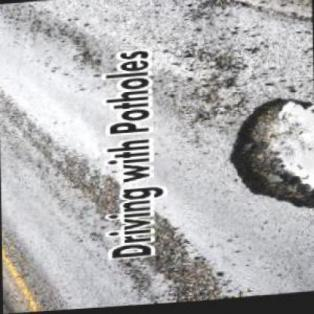Hueco: (223, 98, 314, 221)
